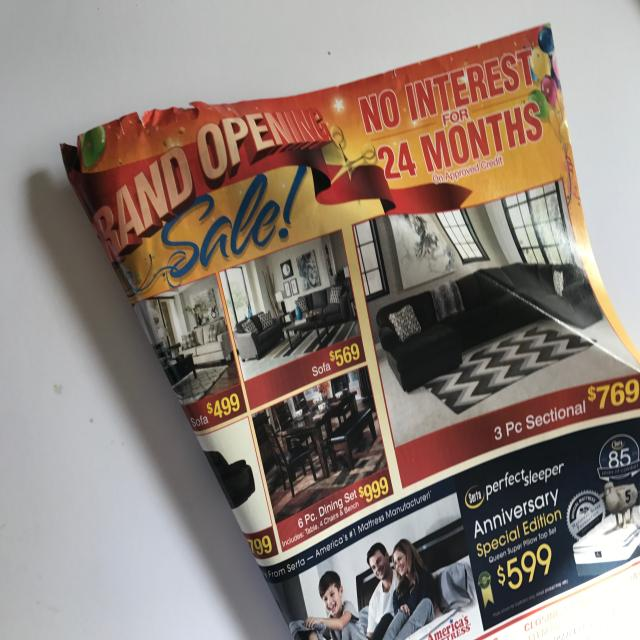paper: (61, 44, 640, 617)
